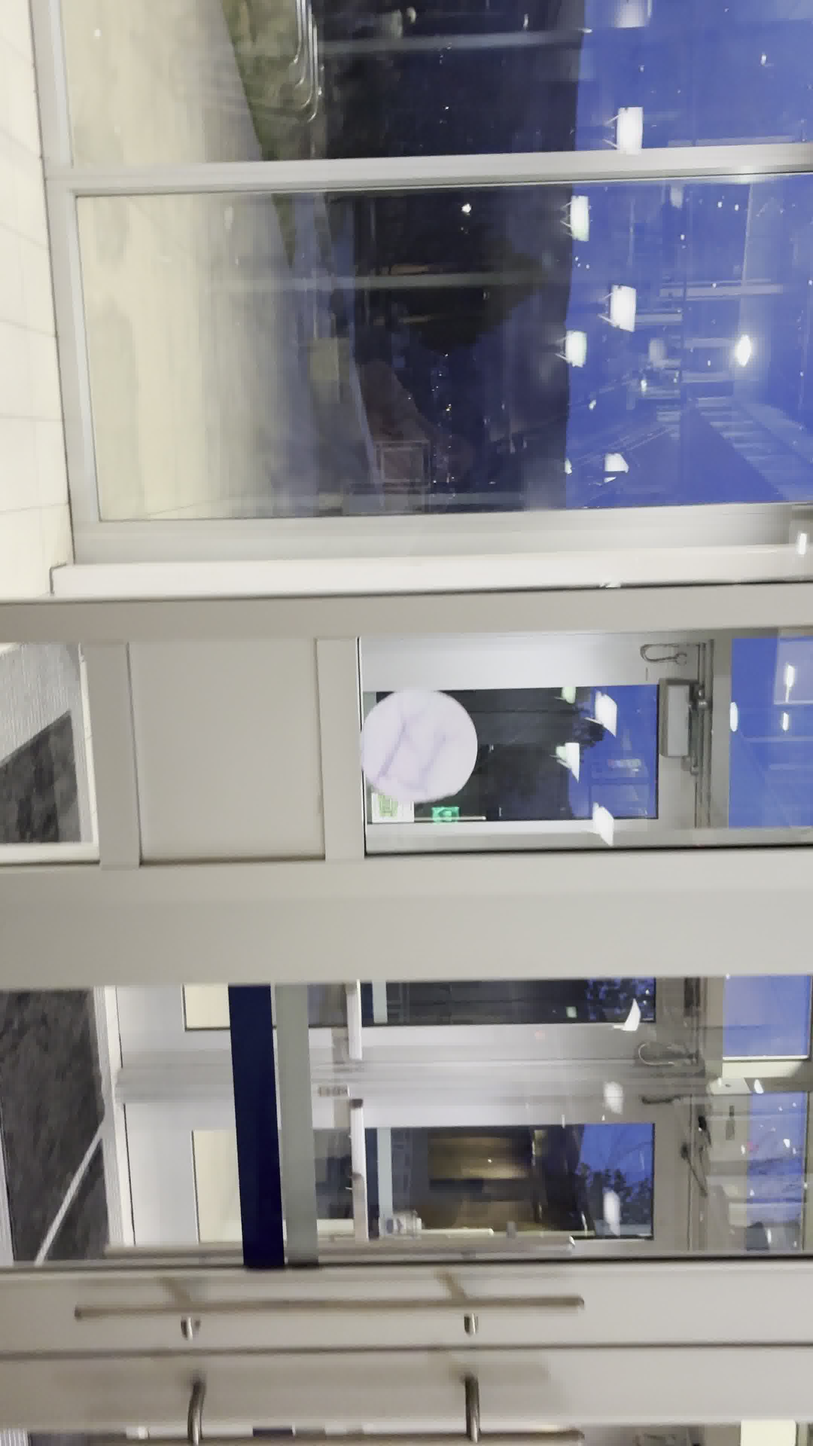Target: (357, 686, 480, 804)
